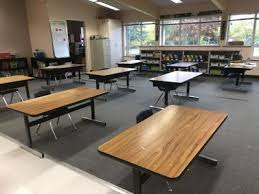desk: (97, 103, 229, 193), (3, 85, 108, 156), (148, 70, 203, 106), (84, 65, 135, 100), (36, 61, 86, 90), (222, 60, 257, 90)
